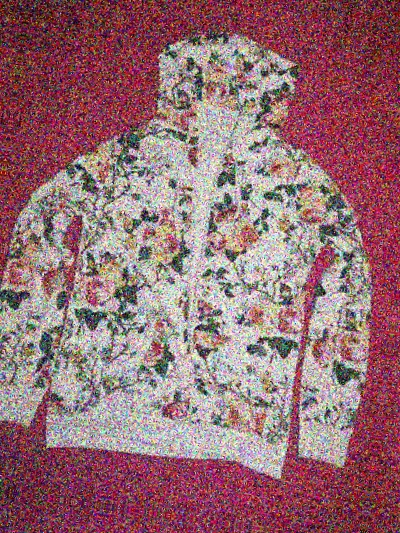Hoodie: (0, 0, 400, 494), (384, 50, 400, 533), (0, 0, 10, 435)
